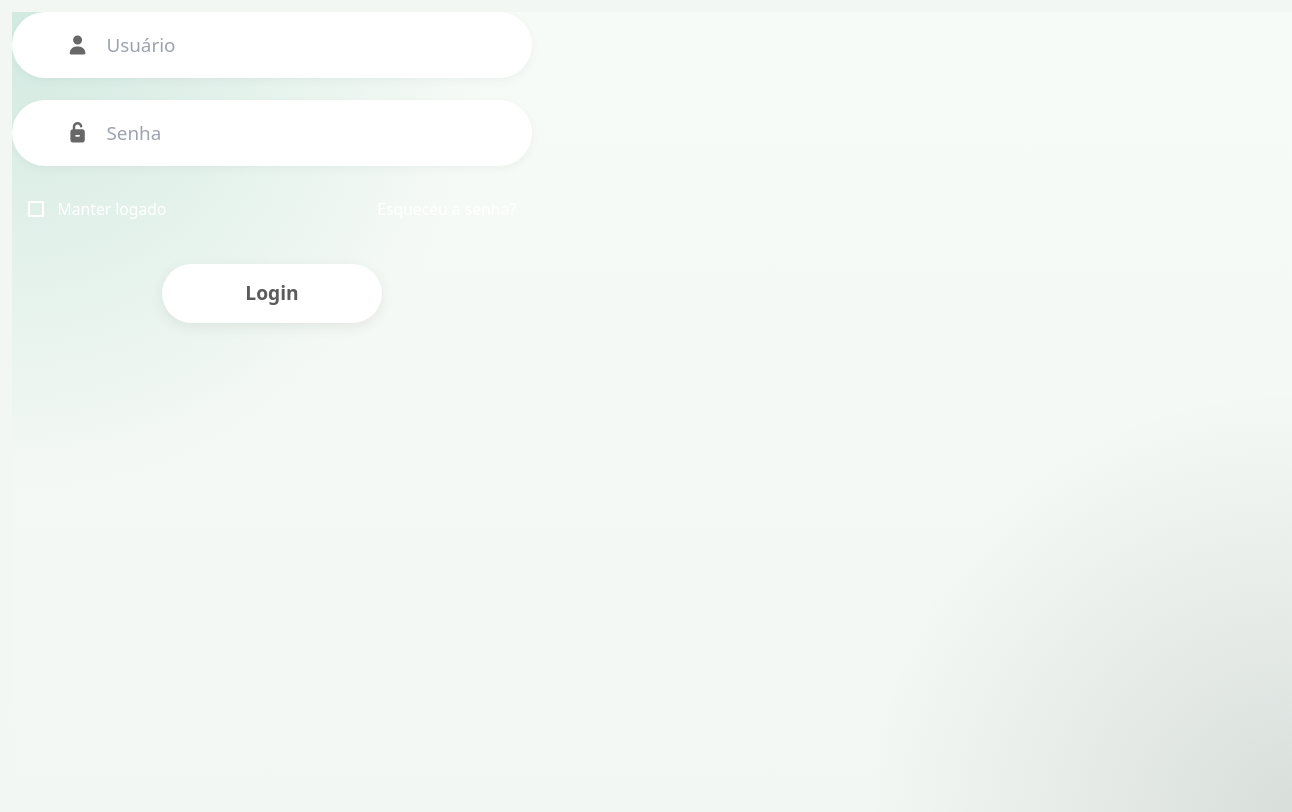
it: LoginForm › mostra erros quando usuário e senha não são preenchidos
The width and height of the screenshot is (1292, 812).
Click the button "Login".
click(272, 294)  # box [162,264,382,324]
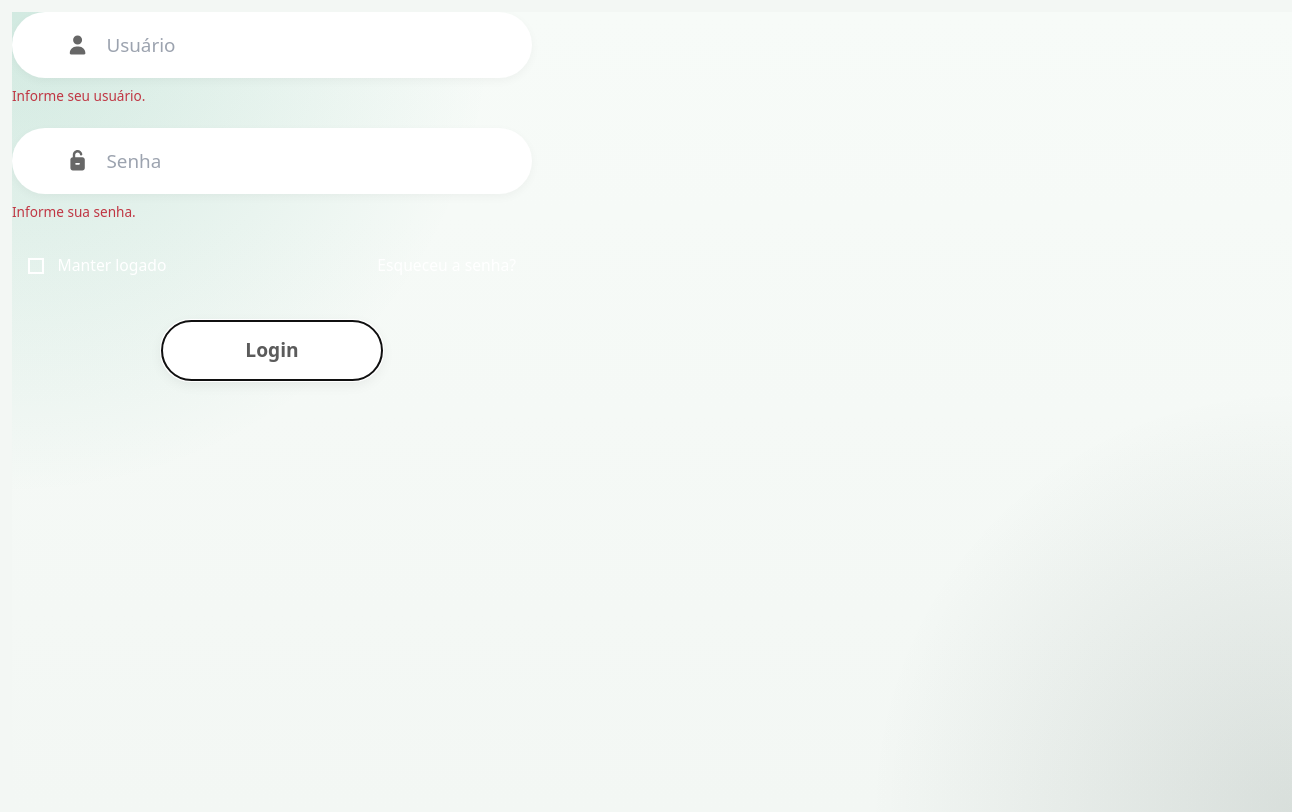
Expected: the text "Informe seu usuário." is shown, [12,86,146,105]
Expected: the text "Informe sua senha." is shown, [12,202,136,221]
